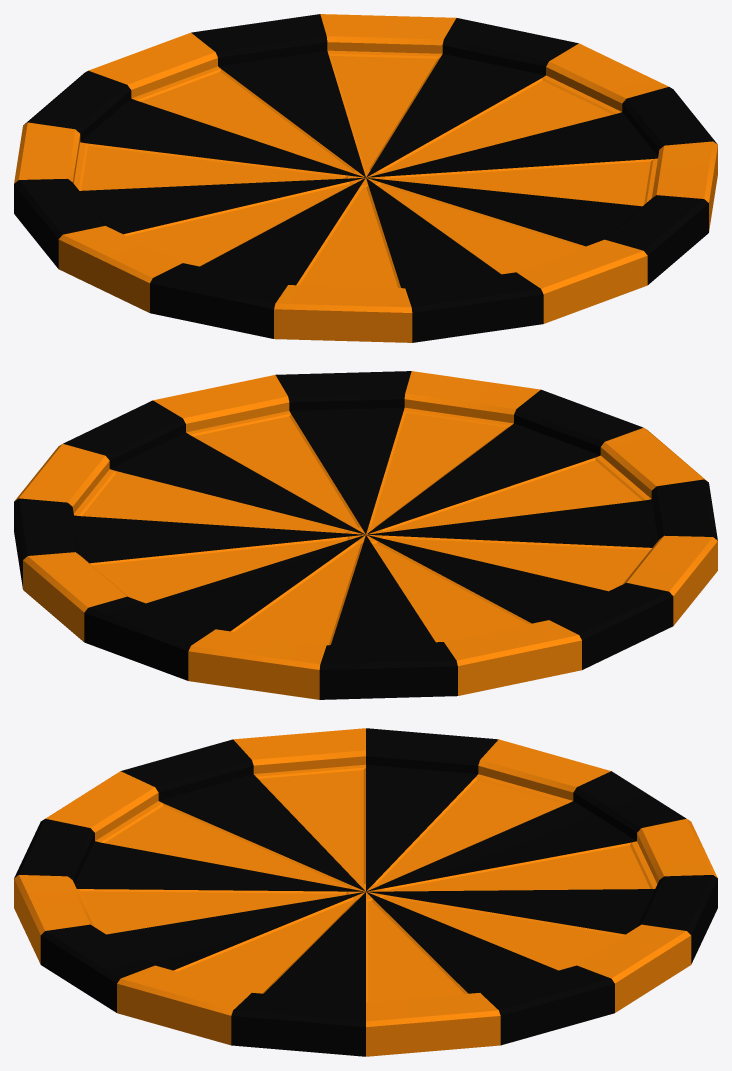
Rendered from pck.fbx.
The picture shows the model from 3 angles, top to bottom: view 1: azimuth 30°, elevation 25°; view 2: azimuth 150°, elevation 25°; view 3: azimuth 270°, elevation 25°; orthographic projection.
Parts seen in each view (by area): view 1: pock; view 2: pock; view 3: pock.
Part boxes in pixels (left/top/right/bottom): pock: left=14, top=14, right=717, bottom=342; pock: left=14, top=371, right=717, bottom=699; pock: left=14, top=728, right=717, bottom=1056.
Bounding box in the file's own units: 720 × 37.55 × 720.
